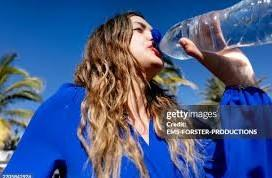bottle: (222, 8, 270, 41)
